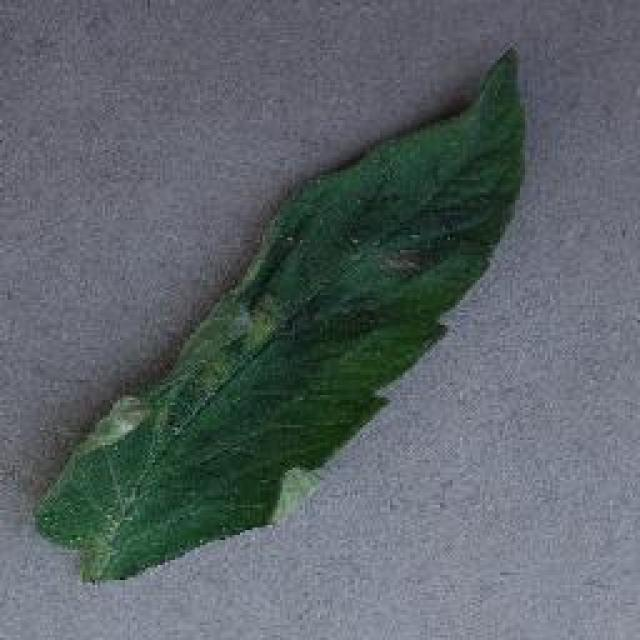Tomato___Leaf_Mold: (38, 50, 522, 578)
